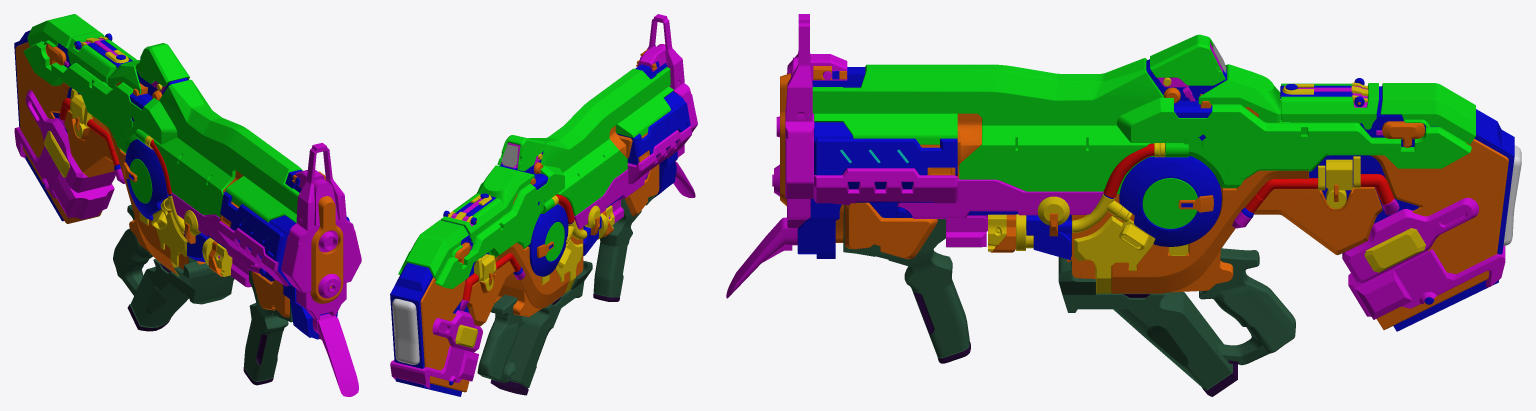
Rendered from gun.fbx.
The picture shows the model from 3 angles, left to right: view 1: azimuth 30°, elevation 25°; view 2: azimuth 150°, elevation 25°; view 3: azimuth 270°, elevation 25°; orthographic projection. The views are drawn at different scales.
Parts seen in each view (by area): view 1: Object016; view 2: Object016, Object017; view 3: Object016.
Part boxes in pixels (left/top/right/bottom): Object016: left=14, top=14, right=361, bottom=396; Object016: left=390, top=14, right=697, bottom=396; Object017: left=501, top=144, right=518, bottom=167; Object016: left=726, top=14, right=1521, bottom=396.
Size of the model in its own units: 19.3 by 69.45 by 134.
